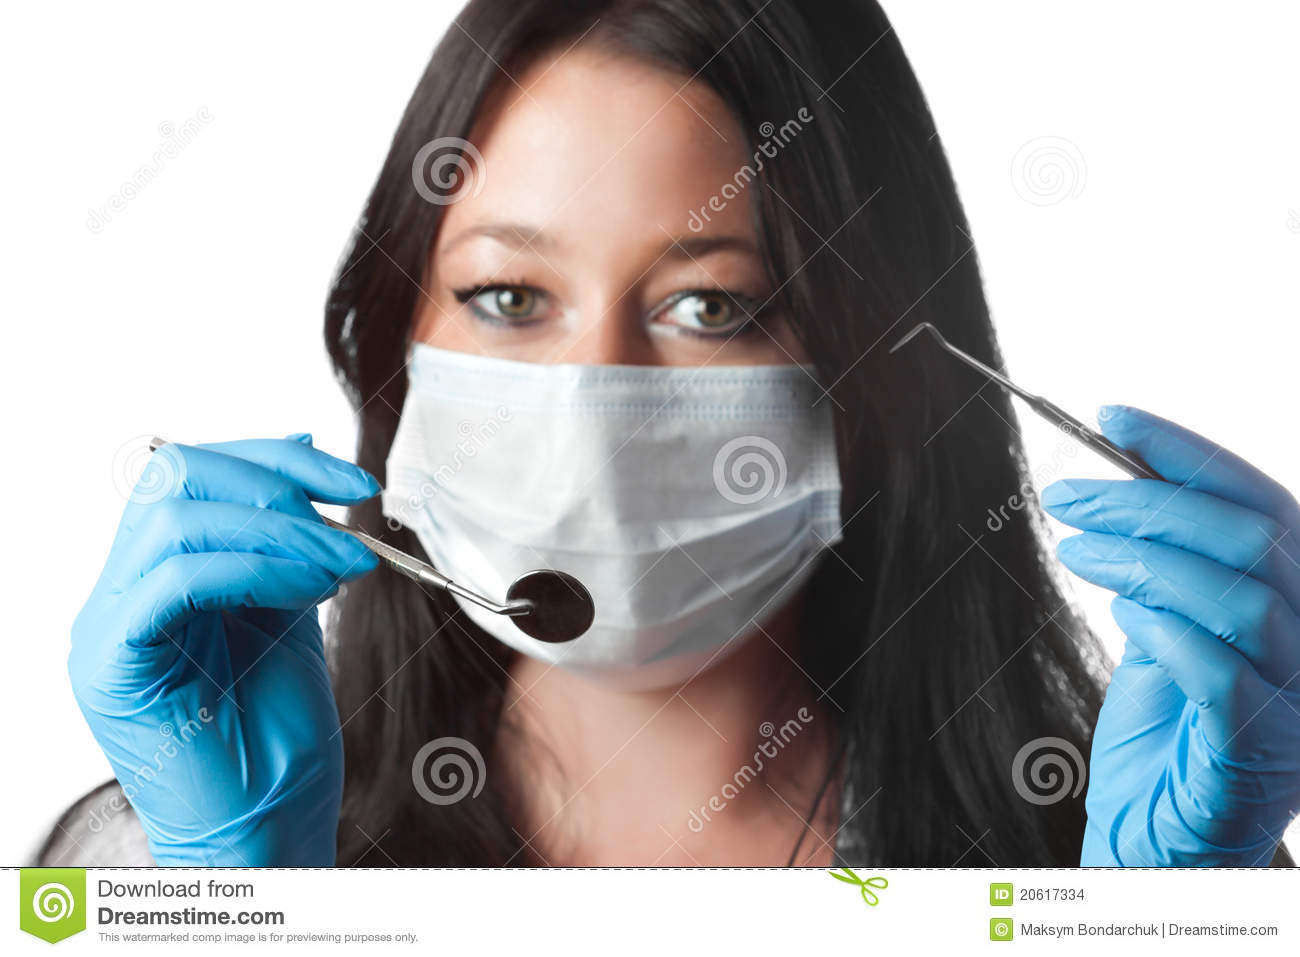mask: (382, 338, 848, 685)
